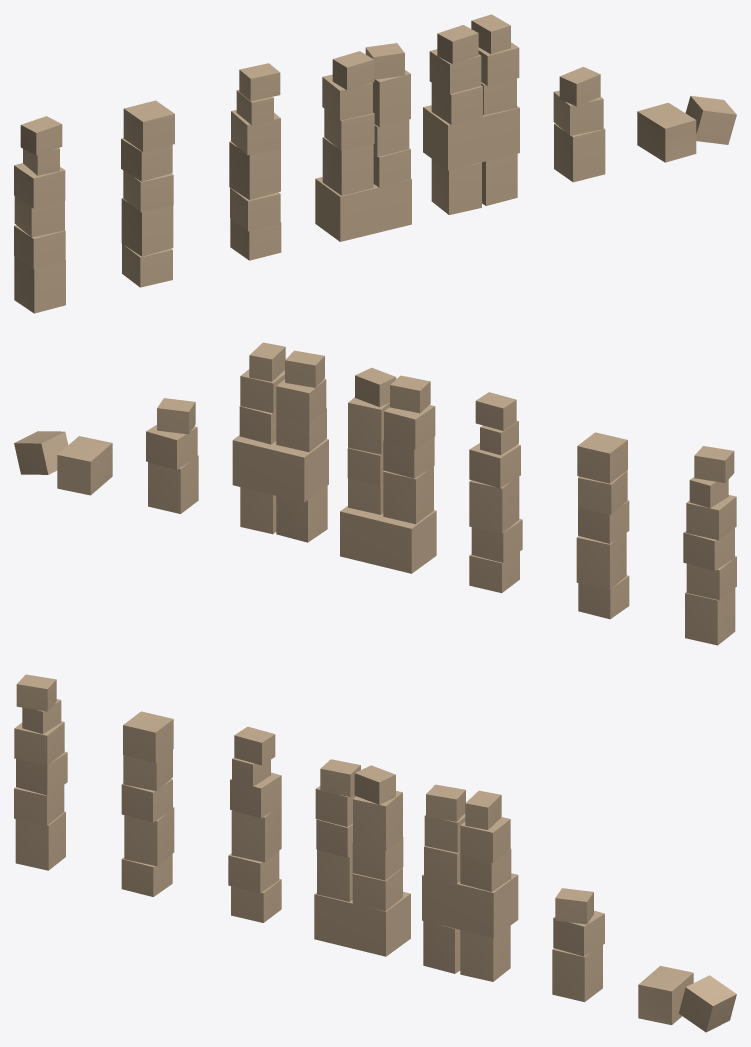
File: Packed.fbx
3 views of the same model, one above another, from view 1: azimuth 30°, elevation 25°; view 2: azimuth 150°, elevation 25°; view 3: azimuth 330°, elevation 25° (orthographic).
Parts seen in each view (by area): view 1: WideA, WideB, ColumnA, ColumnC, ColumnB, Half, Toppled; view 2: WideA, WideB, ColumnC, ColumnA, ColumnB, Half, Toppled; view 3: WideB, WideA, ColumnA, ColumnC, ColumnB, Half, Toppled.
Boxes of the visible parts, x1,y1,x2,y2 form: WideA: (315,43,411,241); WideB: (423,14,519,214); ColumnA: (14,116,65,313); ColumnC: (229,63,281,260); ColumnB: (121,100,174,287); Half: (553,67,605,182); Toppled: (637,96,736,162); WideA: (340,367,436,573); WideB: (232,342,328,542); ColumnC: (469,392,522,593); ColumnA: (683,446,736,645); ColumnB: (576,432,629,619); Half: (146,398,198,513); Toppled: (14,431,112,495); WideB: (422,784,518,981); WideA: (314,759,410,956); ColumnA: (14,674,67,870); ColumnC: (228,726,281,922); ColumnB: (121,711,174,896); Half: (552,888,604,1002); Toppled: (638,966,736,1032).
Bounding box in the file's own units: 39.45 × 9.6 × 2.58.
